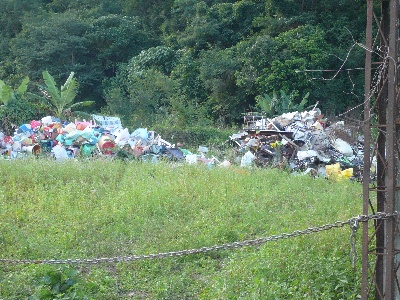bucket: (98, 135, 115, 156), (21, 143, 41, 156), (74, 120, 90, 131)
plastic_bag: (326, 161, 354, 183), (159, 146, 186, 165)
